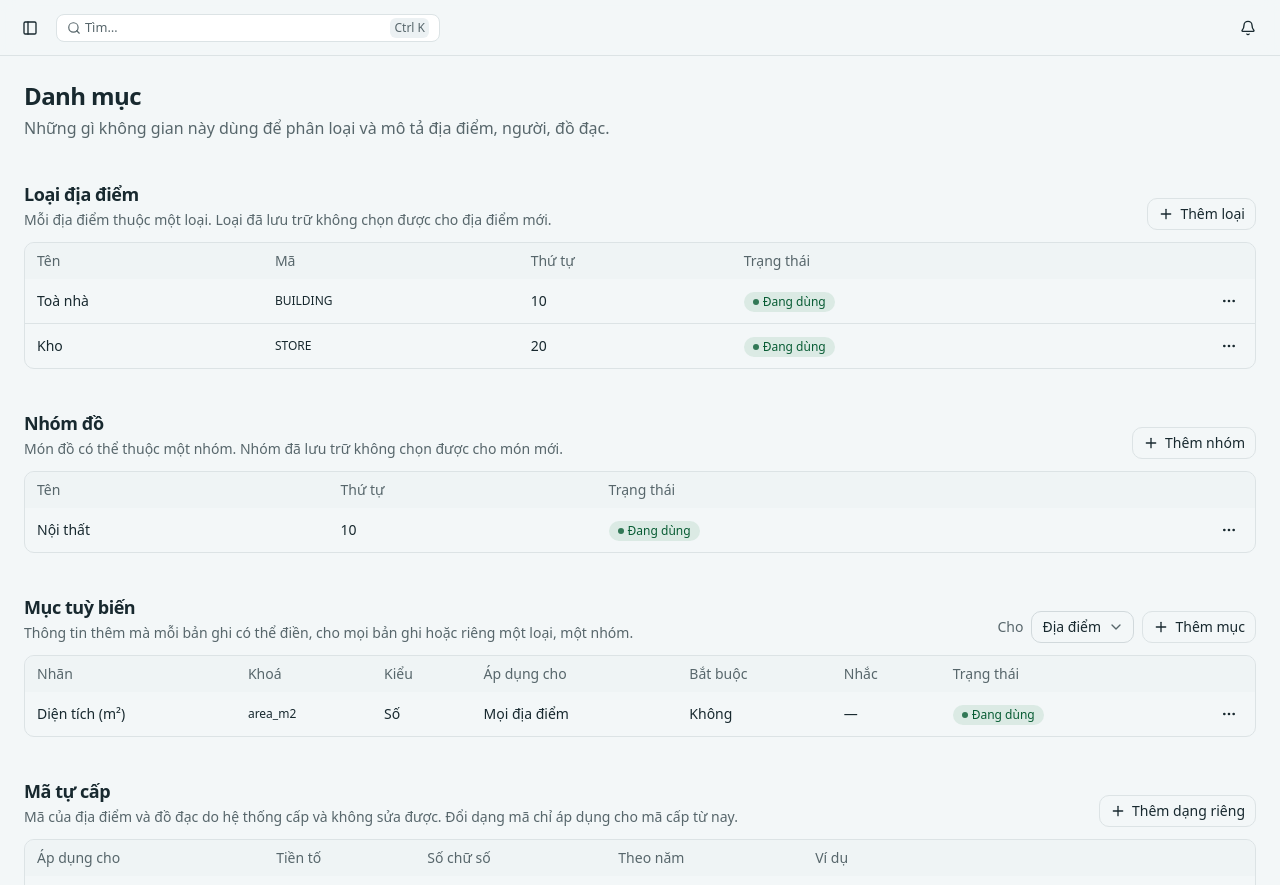
Test case: placeTypeCodeIsUppercased
Click the button "Thêm loại" at (1202, 214), box [1147,198,1256,230]
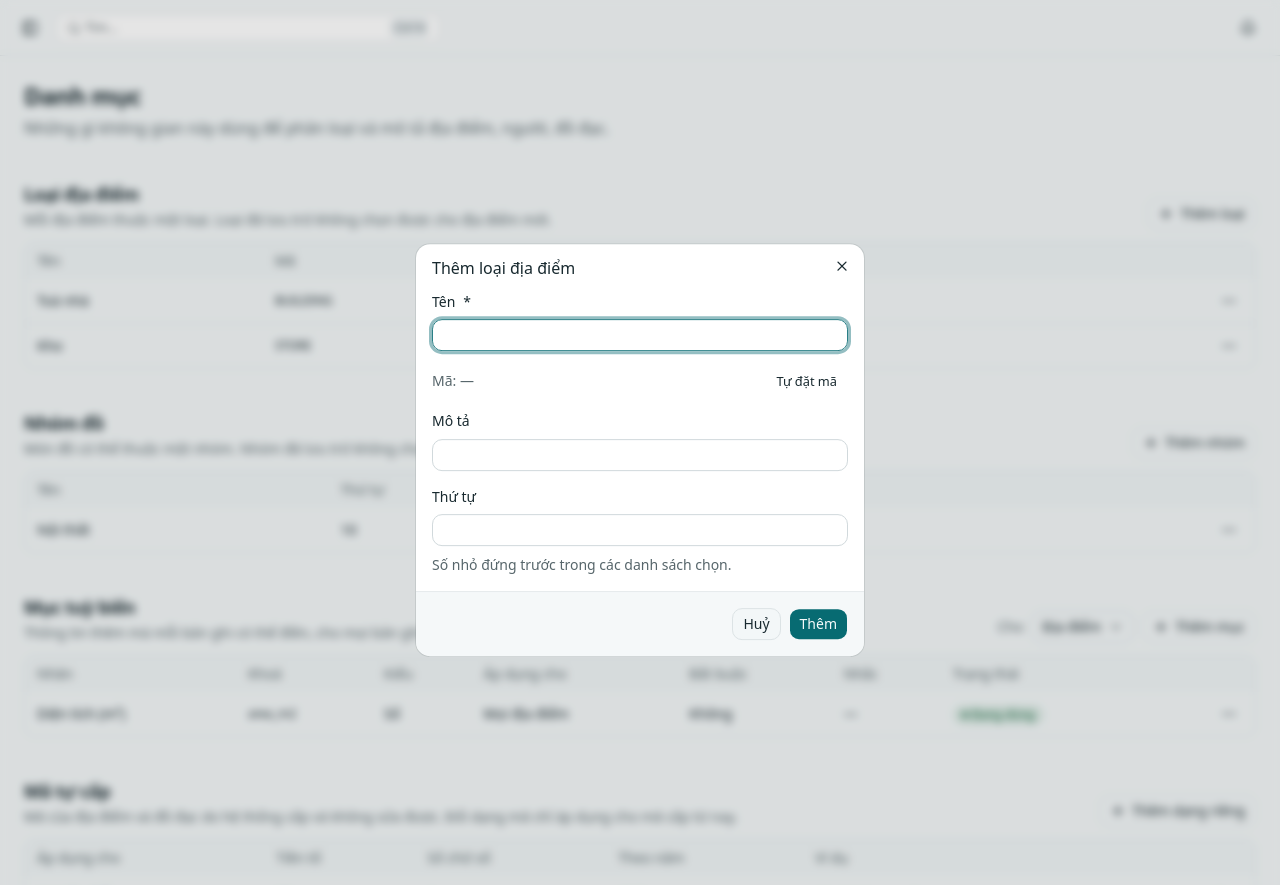
Click the button "Tự đặt mã" at (807, 381), box [765,367,848,395]
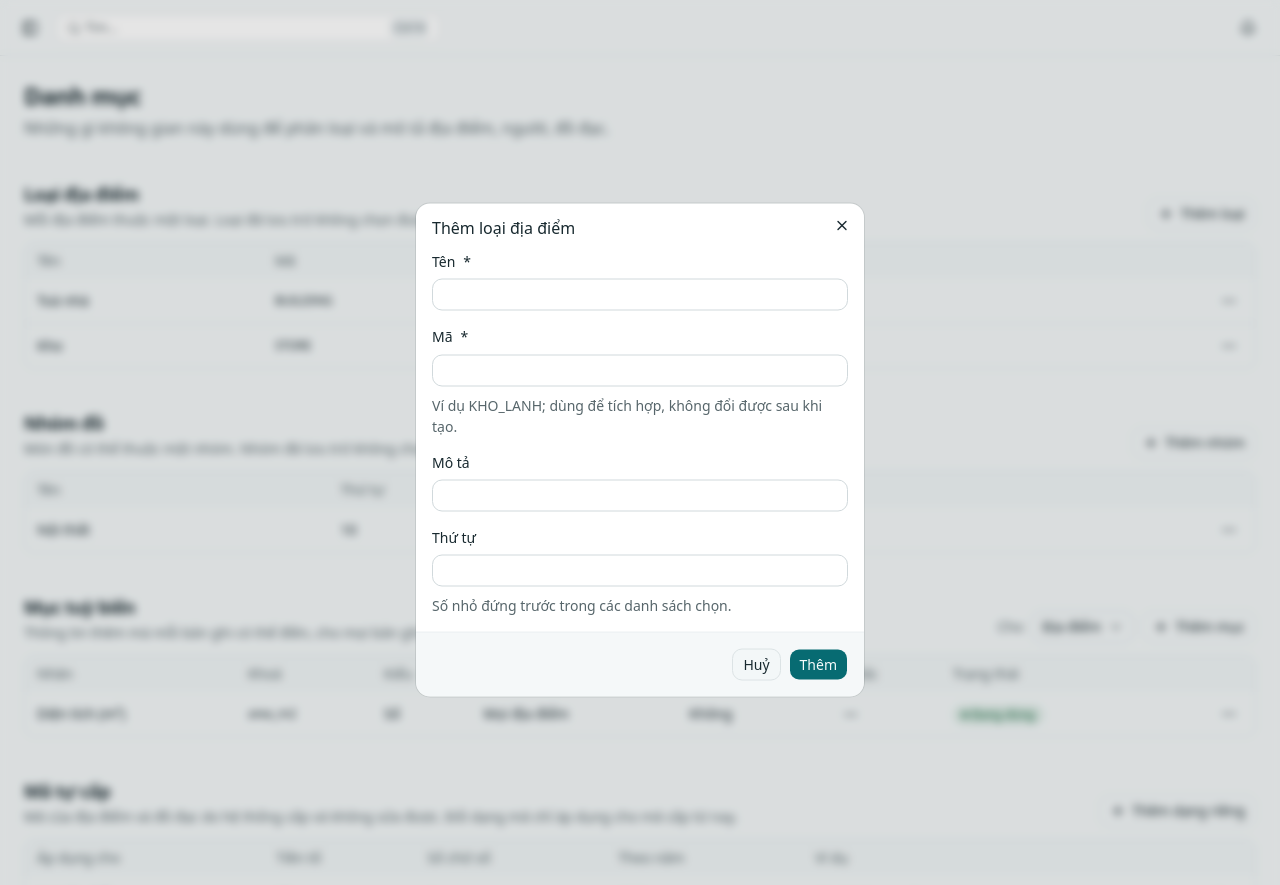
Type "kho_lanh" into the field labelled "Mã" at (640, 370), box [432,354,848,386]
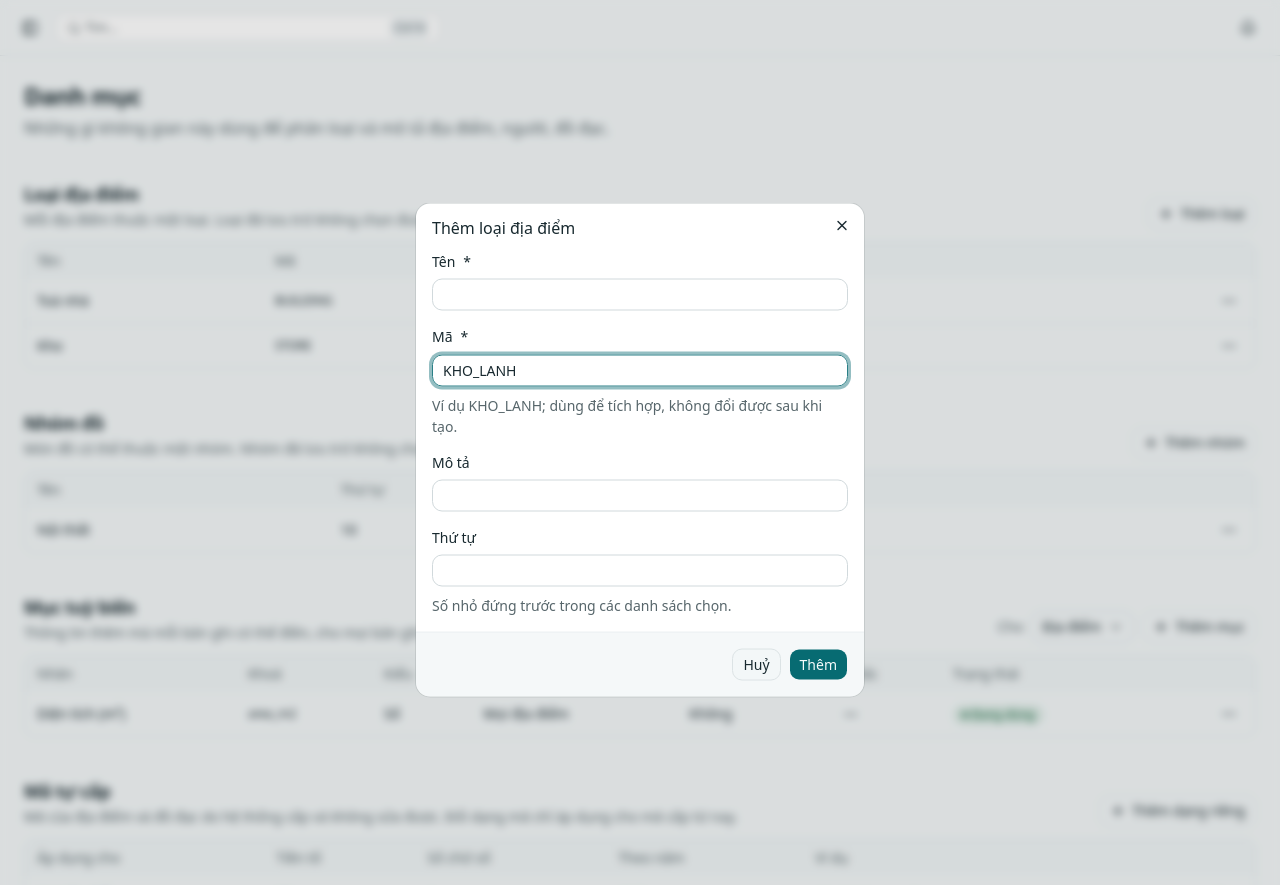
Type "Kho lạnh" into the field labelled "Tên" at (640, 295), box [432,279,848,311]
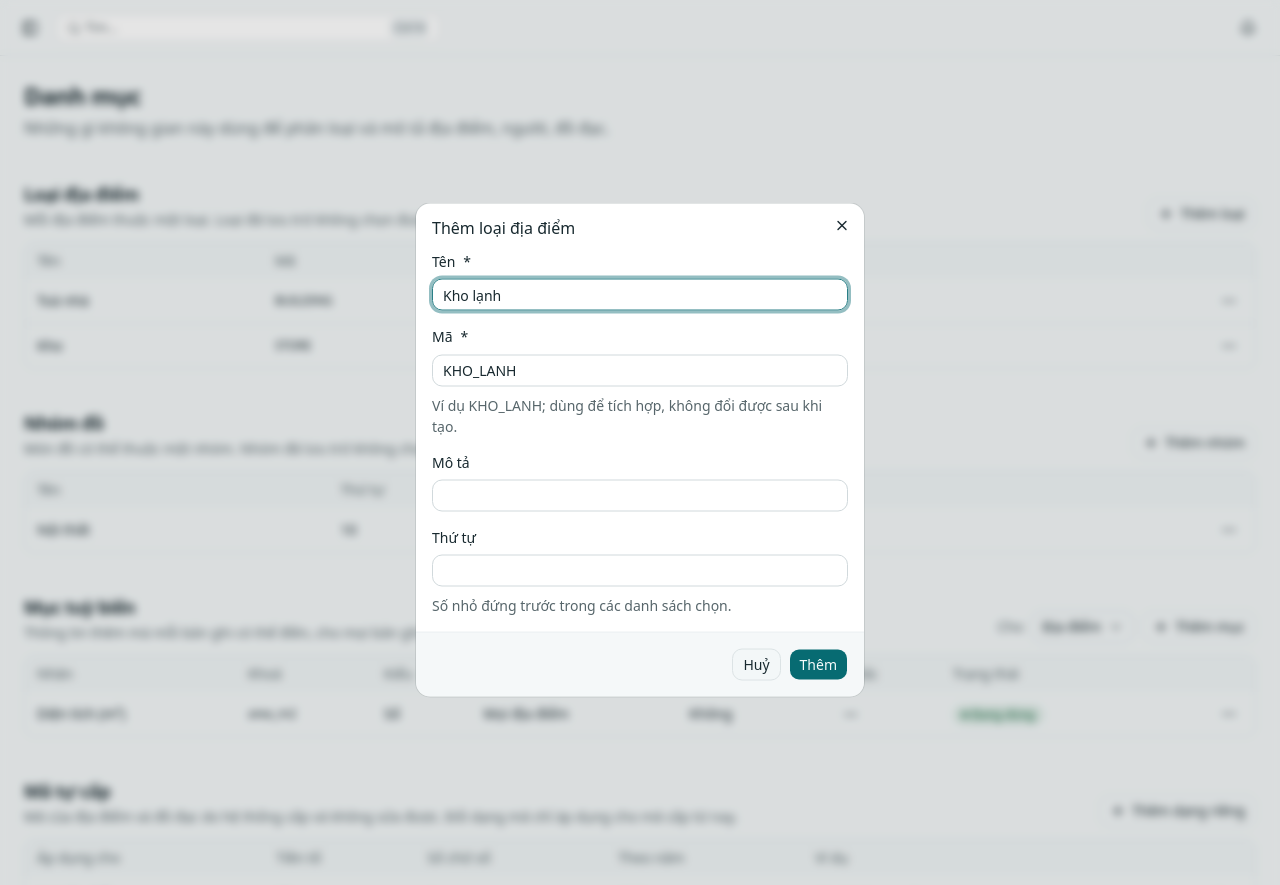
Click the button "Thêm" at (818, 664), box [789,648,848,680]
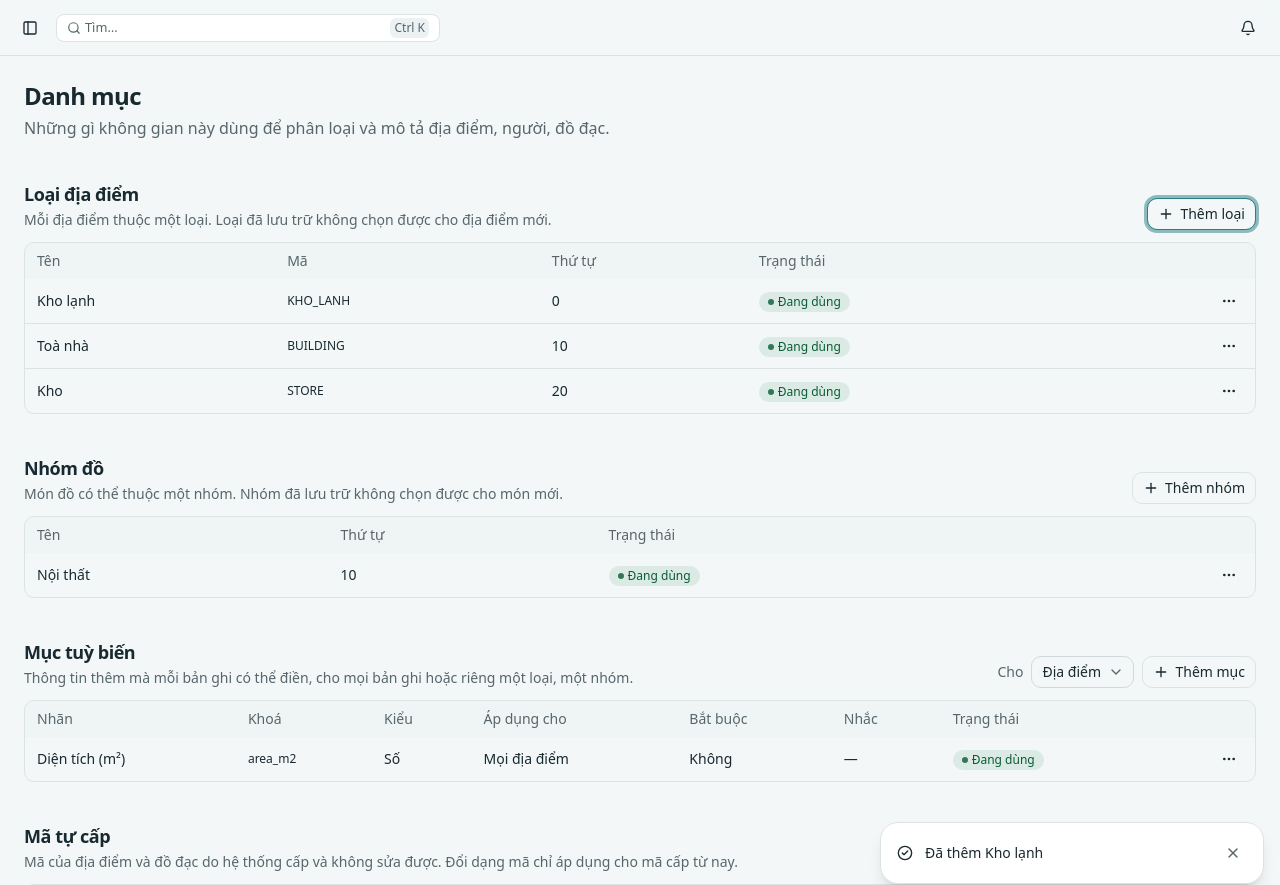
Expected: the text "Kho lạnh" is shown, [25,279,275,324]
